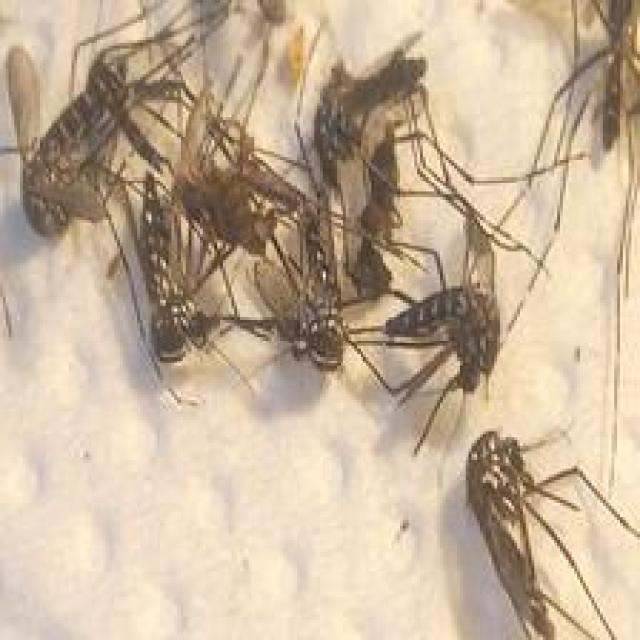Aedes albopictus: (463, 425, 640, 640)
